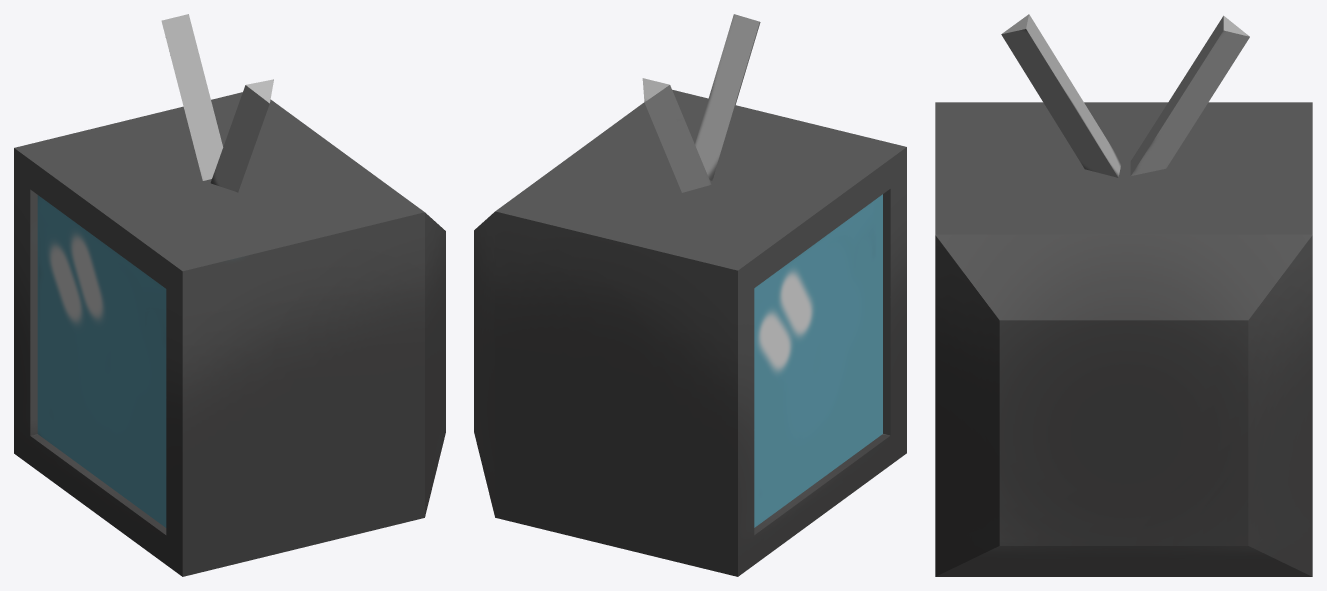
The model's file is Television.fbx.
3 renders of one model, left to right at view 1: azimuth 30°, elevation 25°; view 2: azimuth 150°, elevation 25°; view 3: azimuth 270°, elevation 25°, orthographic. The views are drawn at different scales.
Visible parts, largest first — view 1: Cylinder; view 2: Cylinder; view 3: Cylinder.
Boxes of the visible parts, bbox=[...] form: Cylinder: bbox=[14, 14, 445, 576]; Cylinder: bbox=[474, 14, 906, 576]; Cylinder: bbox=[935, 14, 1312, 576].
Size of the model in its own units: 239 by 341 by 239.
